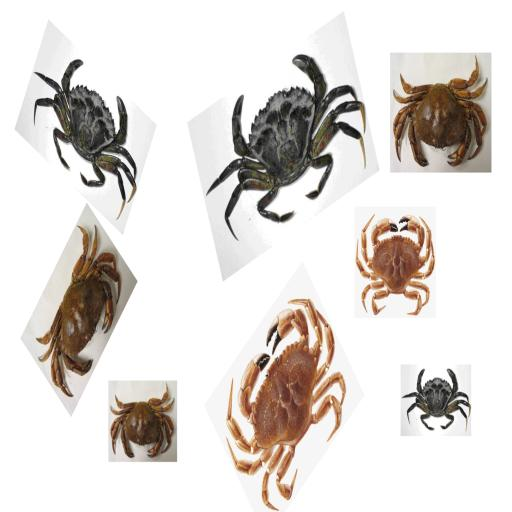green crab: (184, 32, 368, 225), (17, 36, 152, 217), (400, 368, 472, 437)
joe crab: (220, 294, 348, 512), (357, 213, 441, 316)
rock crab: (32, 209, 123, 395), (389, 52, 492, 172), (107, 380, 177, 462)
